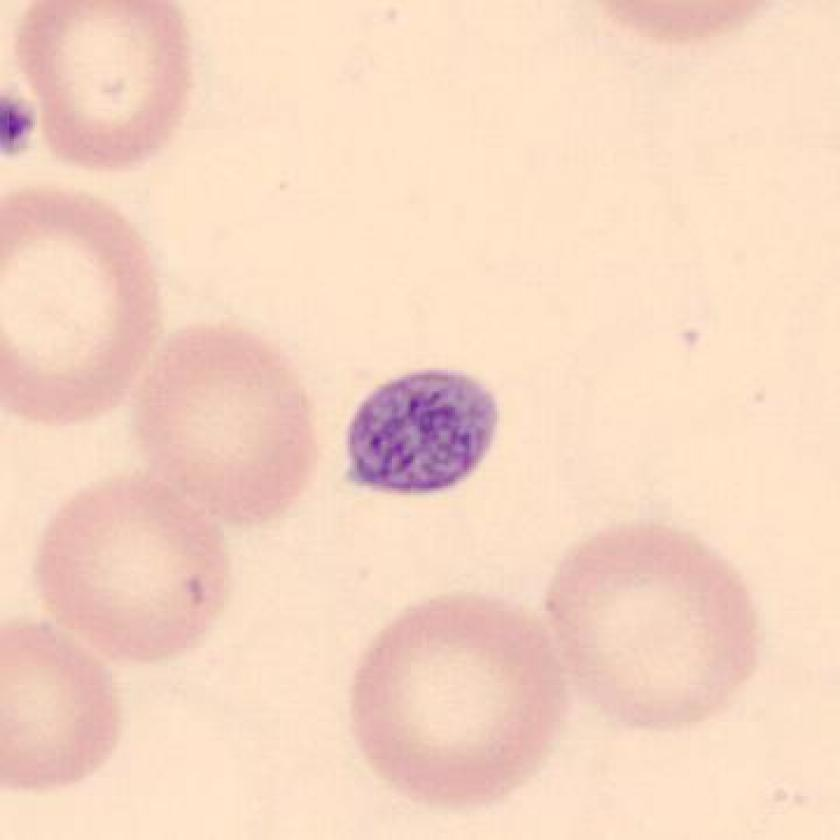platelets: (330, 362, 512, 512)
